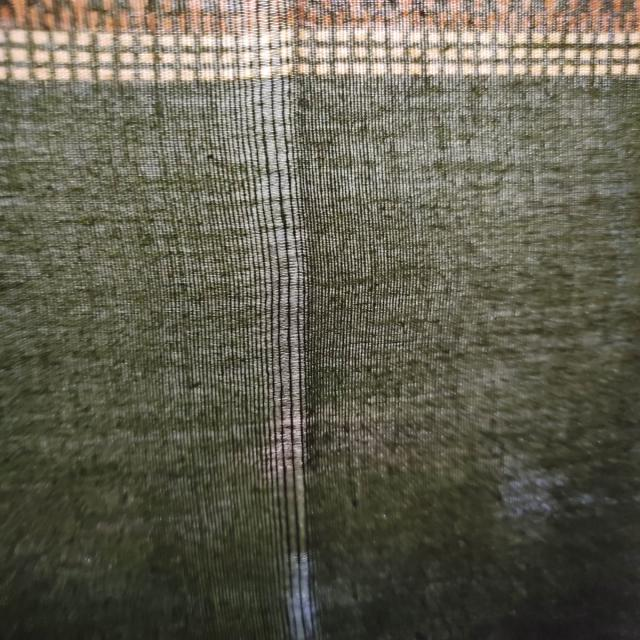baekra: (216, 0, 326, 640)
